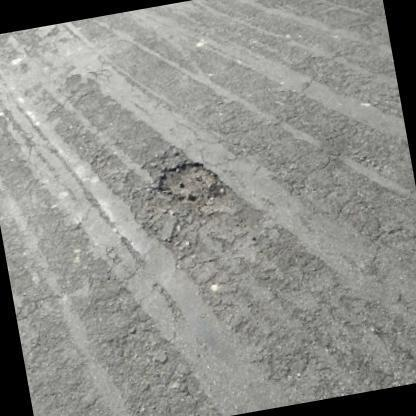pothole: (152, 160, 230, 209)
